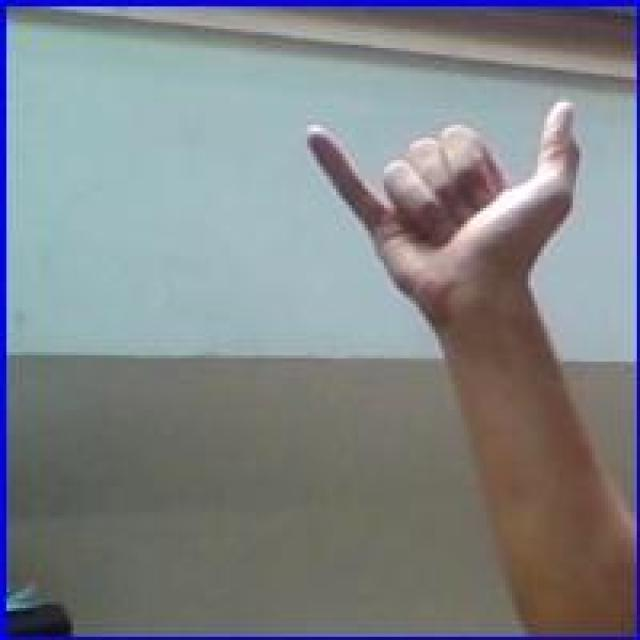Y: (299, 96, 587, 304)
